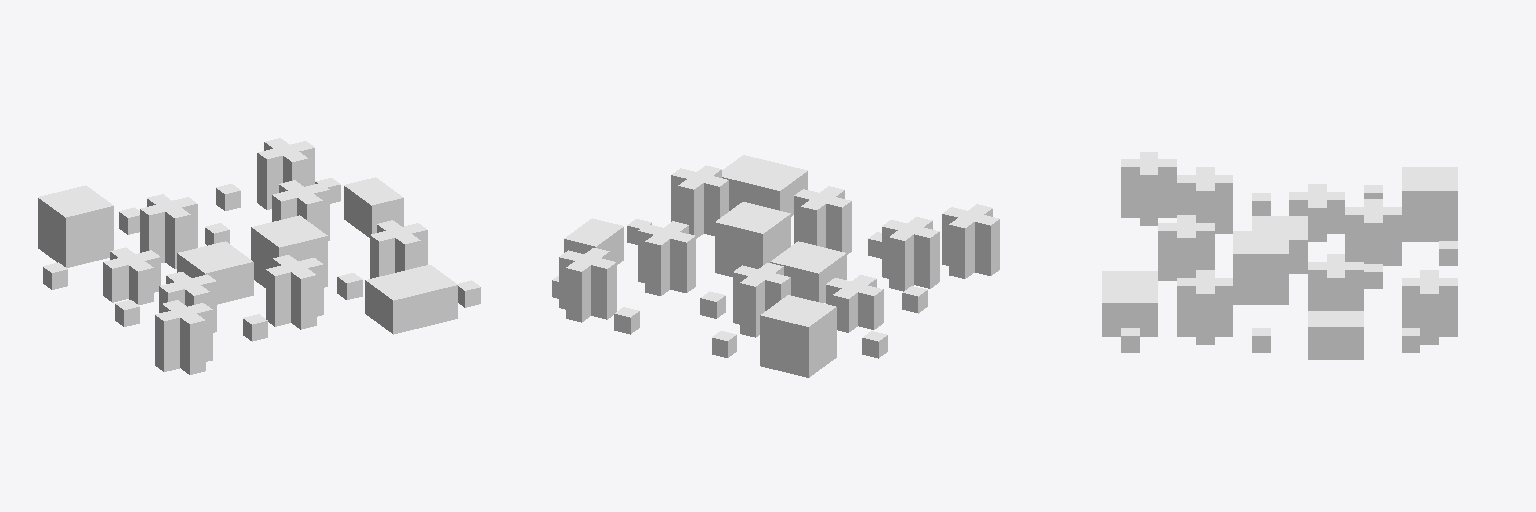
Rendered from NoodleCup.obj.
3 renders of one model, left to right at view 1: azimuth 30°, elevation 25°; view 2: azimuth 150°, elevation 25°; view 3: azimuth 270°, elevation 25°, orthographic.
Visible parts, largest first — view 1: object 1; view 2: object 1; view 3: object 1.
Part boxes in pixels (left/top/right/bottom): object 1: left=38, top=138, right=480, bottom=374; object 1: left=552, top=155, right=999, bottom=377; object 1: left=1102, top=152, right=1457, bottom=359.
Size of the model in its own units: 2 by 0.3 by 1.9.